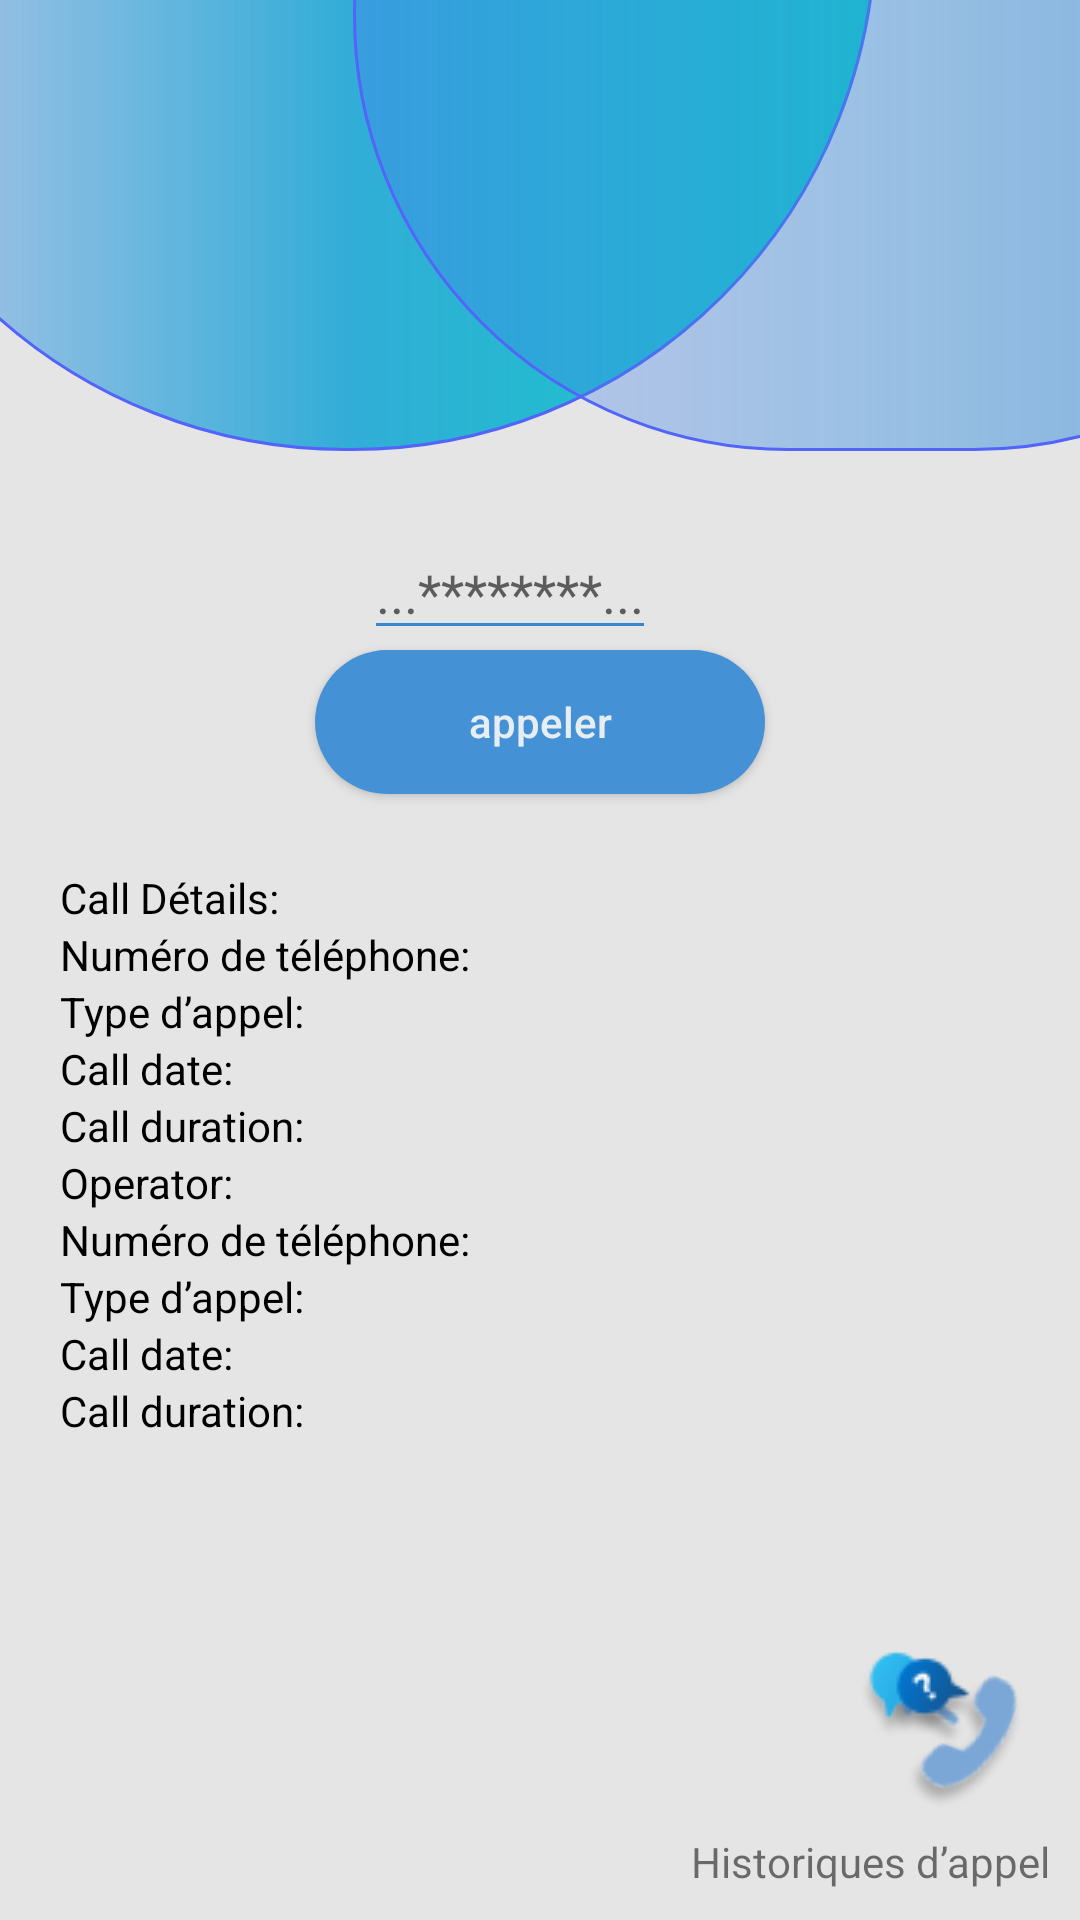

Locate icon controls on the screen. Image size 1080×1920, boxes as {"left": x1, "top": y1, "right": x2, "bottom": y2}.
get help: {"left": 869, "top": 1652, "right": 990, "bottom": 1773}
